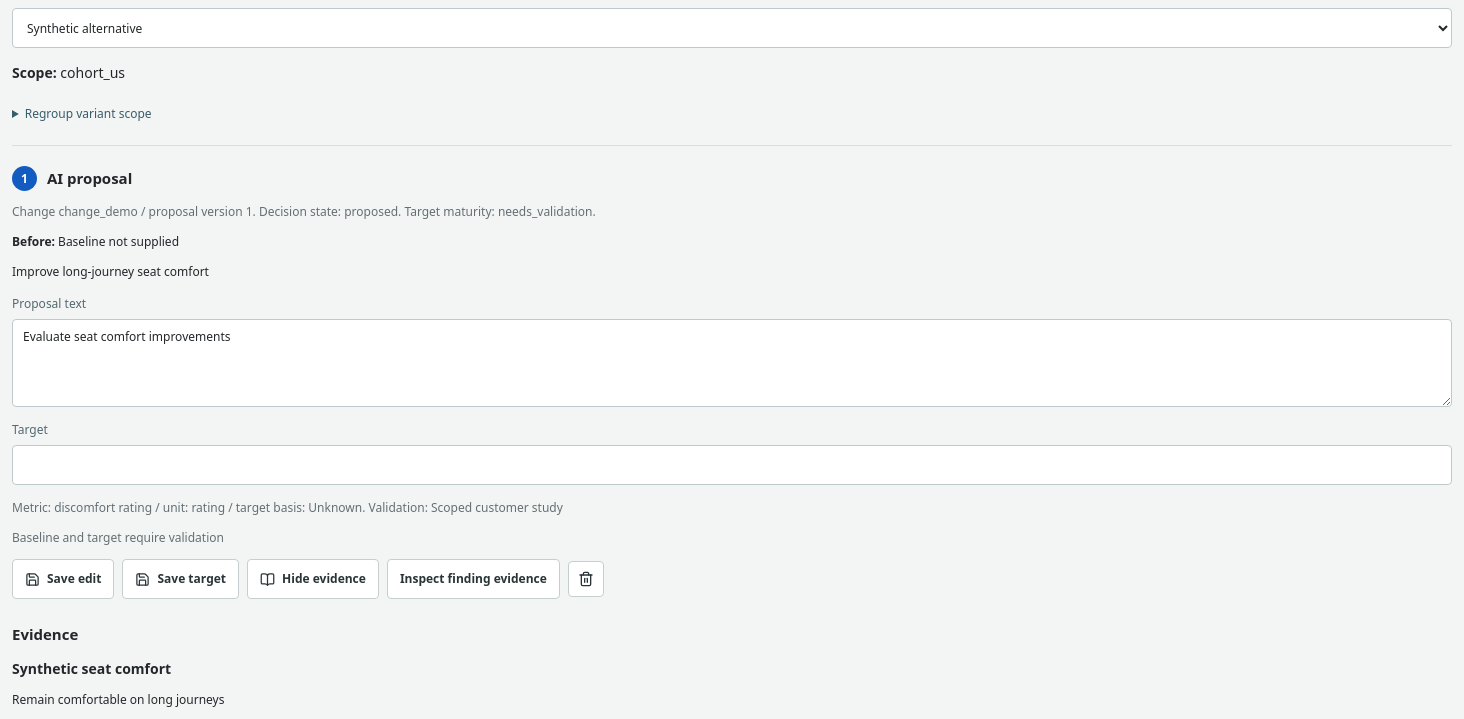
Test: refreshes stale rejection without rebasing the retained draft automatically
This screenshot has width=1464, height=719.
Type " retained" into the text box labelled "Proposal text".
click(732, 363); type(" retained")  # box [12,319,1452,407]
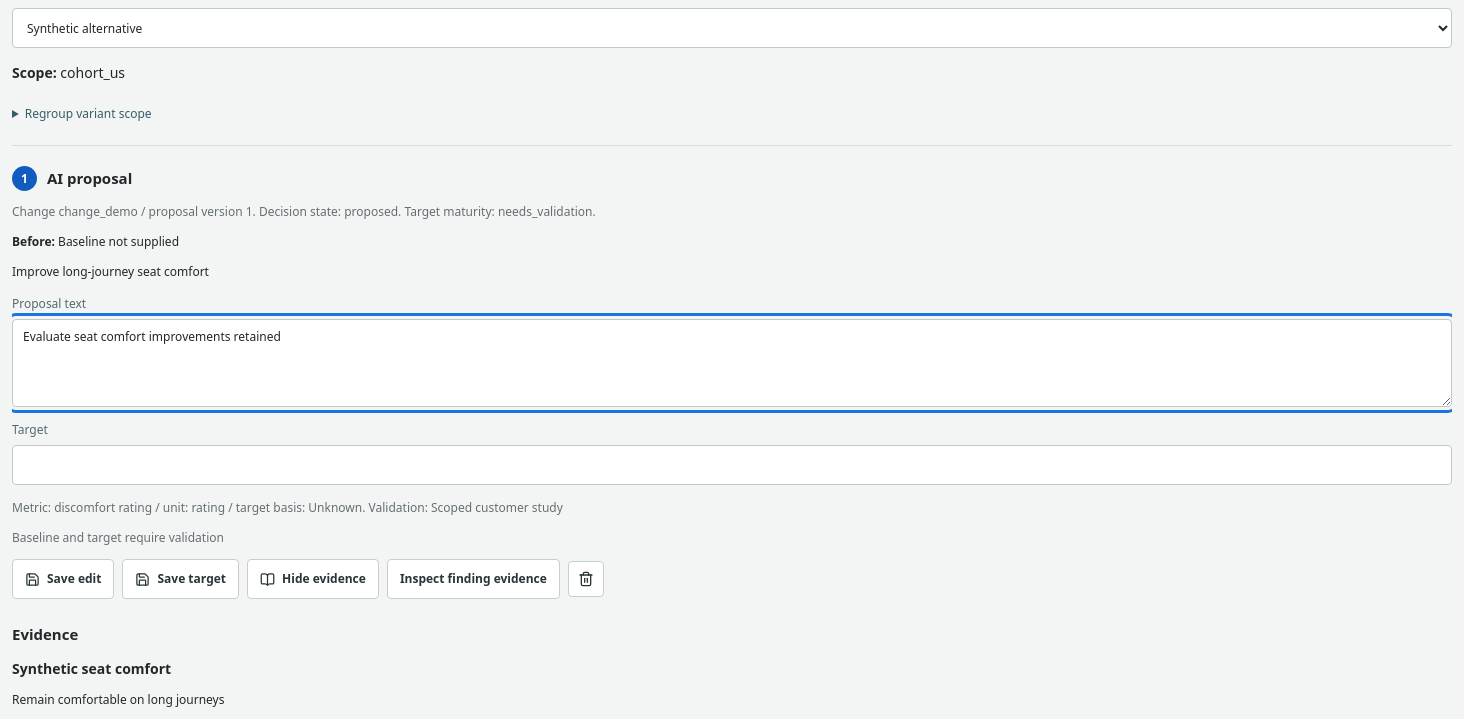
Click the button "Save edit".
click(63, 579)  # box [12,559,114,599]
(page scrolled)
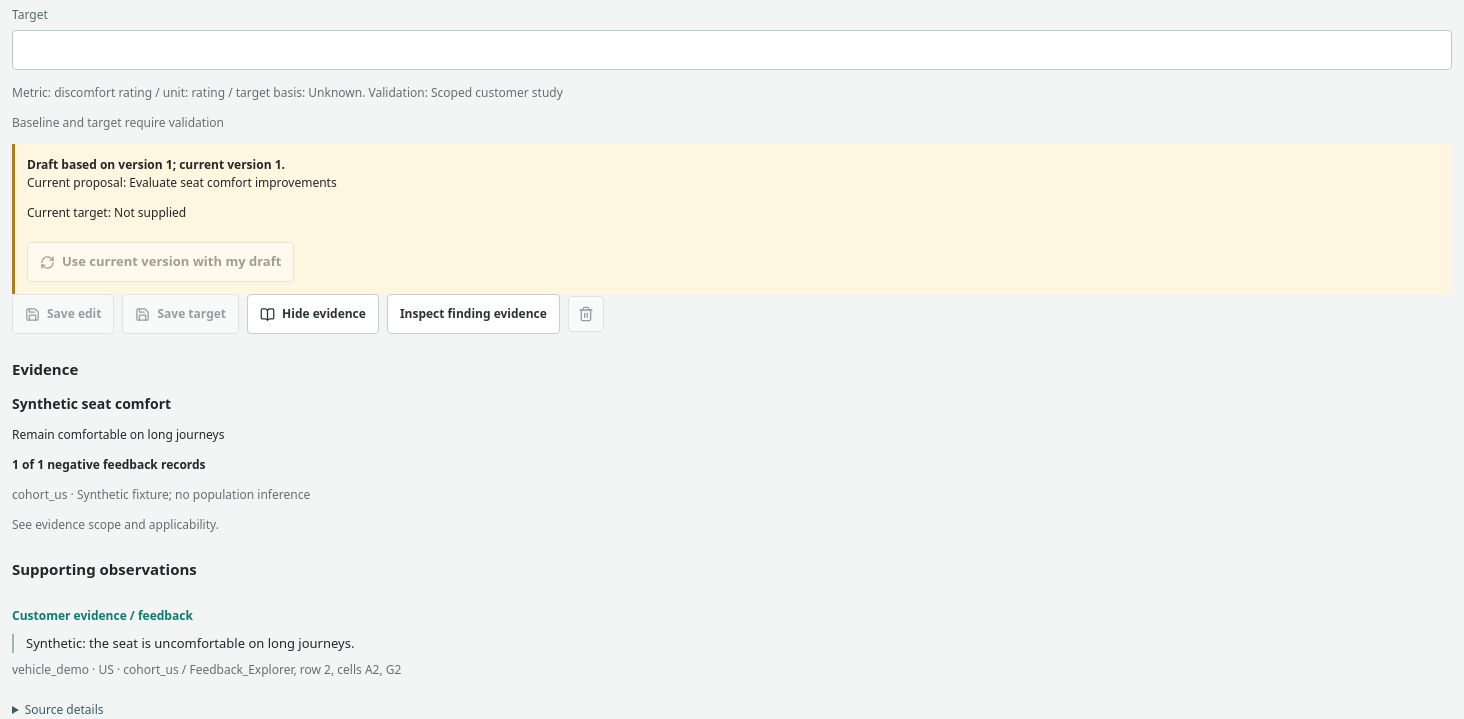
Now the button "Save edit" is disabled, box [12,294,114,334]
